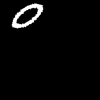chain: (12, 4, 42, 27)
